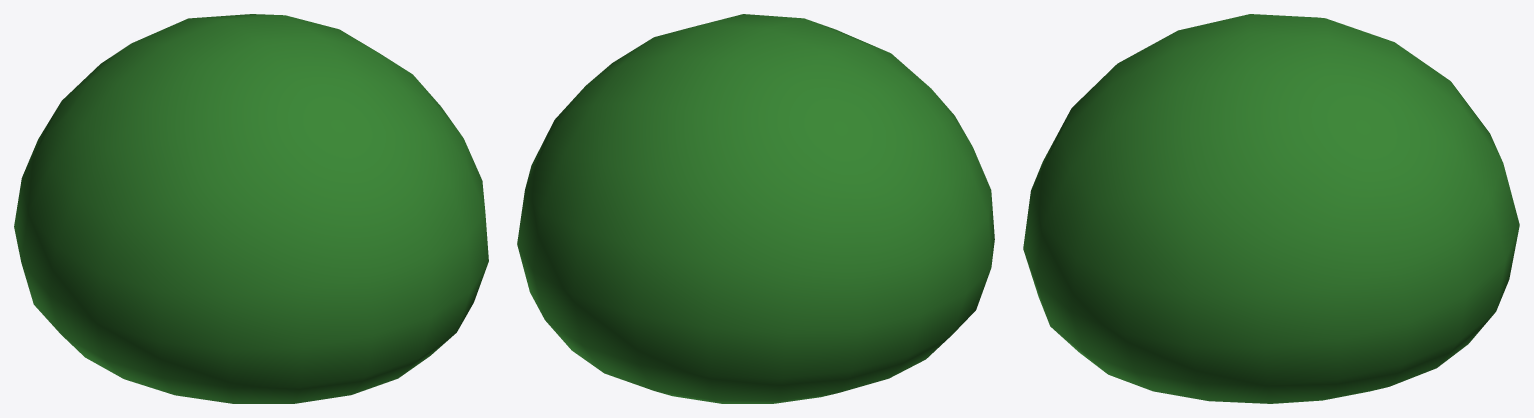
The model's file is mochi green.FBX.
3 views of the same model, side by side, from view 1: azimuth 30°, elevation 25°; view 2: azimuth 150°, elevation 25°; view 3: azimuth 270°, elevation 25° (orthographic). The views are drawn at different scales.
Parts seen in each view (by area): view 1: PolySphere; view 2: PolySphere; view 3: PolySphere.
Part boxes in pixels (x1,y1,x2,y2): PolySphere: (14, 14, 488, 403); PolySphere: (517, 14, 994, 403); PolySphere: (1023, 14, 1519, 403).
Bounding box in the file's own units: 1.96 × 1.39 × 2.01.
